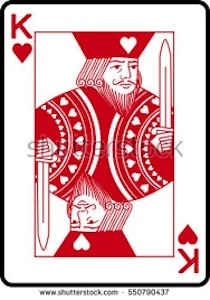KingOfHearts: (2, 1, 210, 287)
